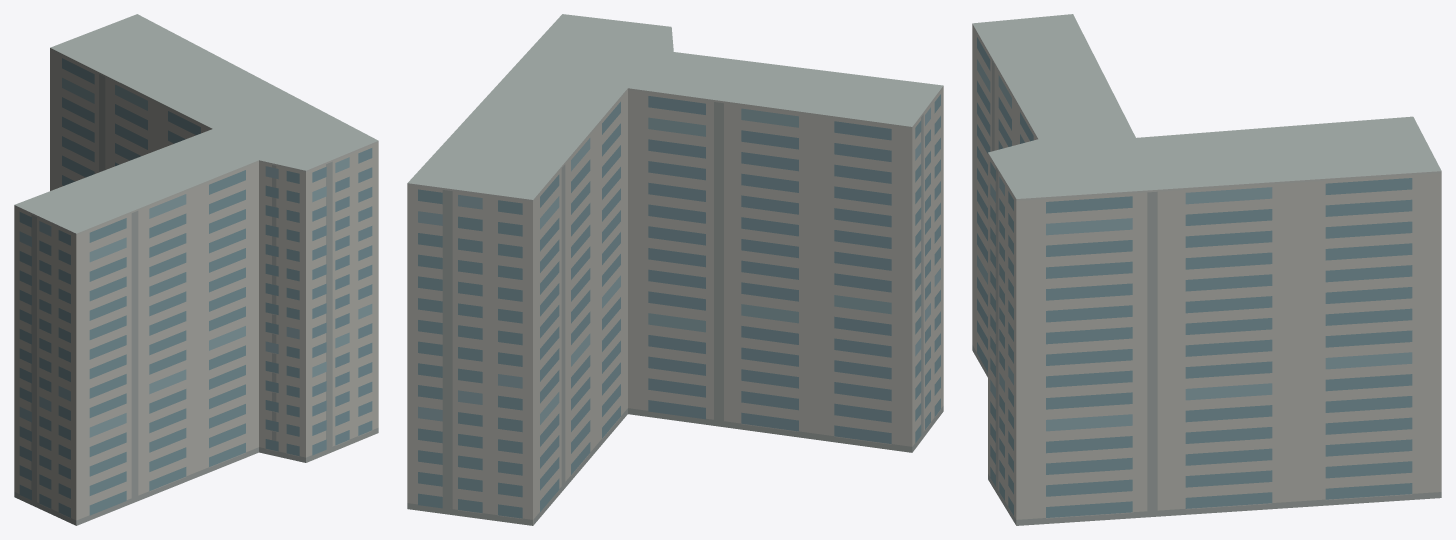
The model's file is residential-b619a856-5e16-49b1-b377-686b9fefb9f4.glb.
The picture shows the model from 3 angles, left to right: view 1: azimuth 30°, elevation 25°; view 2: azimuth 150°, elevation 25°; view 3: azimuth 270°, elevation 25°; orthographic projection. The views are drawn at different scales.
Parts seen in each view (by area): view 1: residential-b619a856-5e16-49b1-b377-686b9fefb9f4.tmp; view 2: residential-b619a856-5e16-49b1-b377-686b9fefb9f4.tmp; view 3: residential-b619a856-5e16-49b1-b377-686b9fefb9f4.tmp.
Boxes of the visible parts, x1,y1,x2,y2 form: residential-b619a856-5e16-49b1-b377-686b9fefb9f4.tmp: (14,14,378,525); residential-b619a856-5e16-49b1-b377-686b9fefb9f4.tmp: (407,14,943,525); residential-b619a856-5e16-49b1-b377-686b9fefb9f4.tmp: (972,14,1441,525).
Bounding box in the file's own units: 49.8 × 41 × 53.39.
